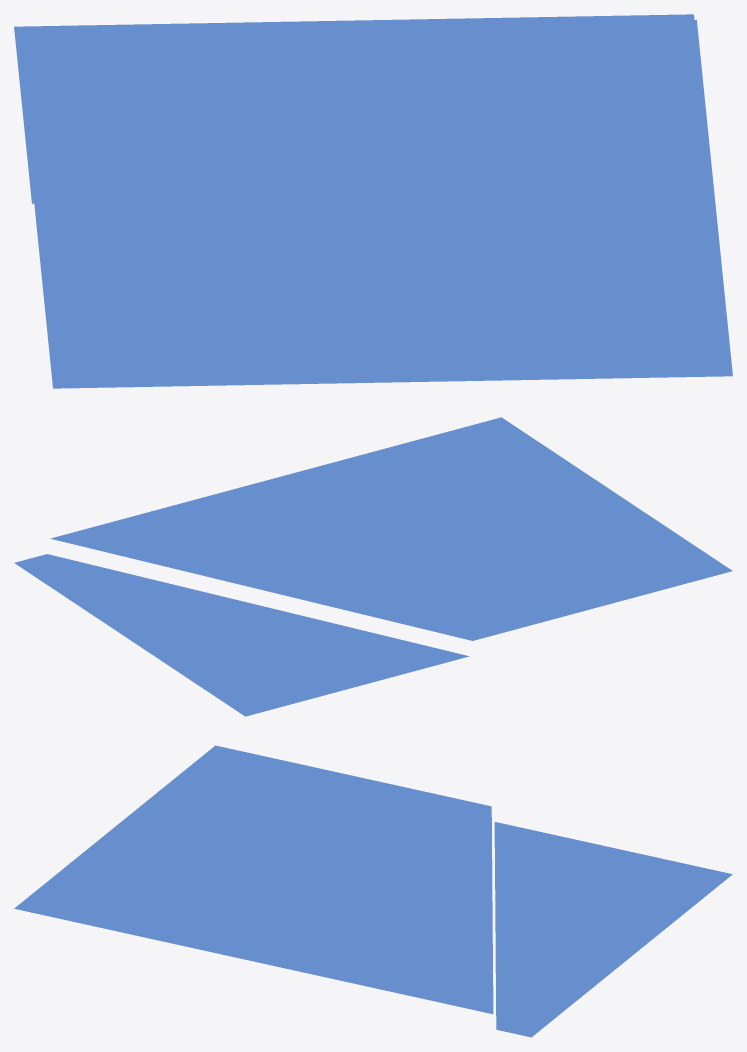
File: River.fbx
3 views of the same model, one above another, from view 1: azimuth 30°, elevation 25°; view 2: azimuth 150°, elevation 25°; view 3: azimuth 270°, elevation 25° (orthographic). The views are drawn at different scales.
Parts seen in each view (by area): view 1: 平面.057; view 2: 平面.057; view 3: 平面.057.
Boxes of the visible parts, x1,y1,x2,y2 form: 平面.057: [14, 14, 732, 388]; 平面.057: [14, 417, 732, 716]; 平面.057: [14, 745, 732, 1037].
Size of the model in its own units: 46943 by 51434 by 1162.
